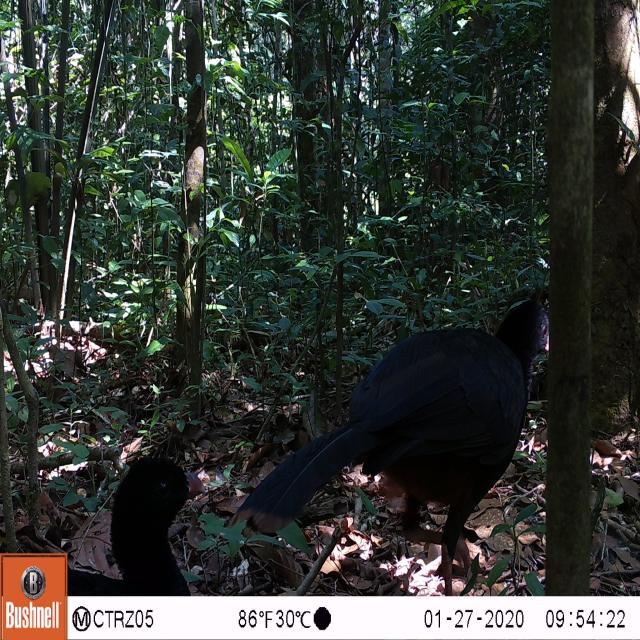Salvins Curassow: (224, 274, 565, 591), (65, 431, 218, 590)
